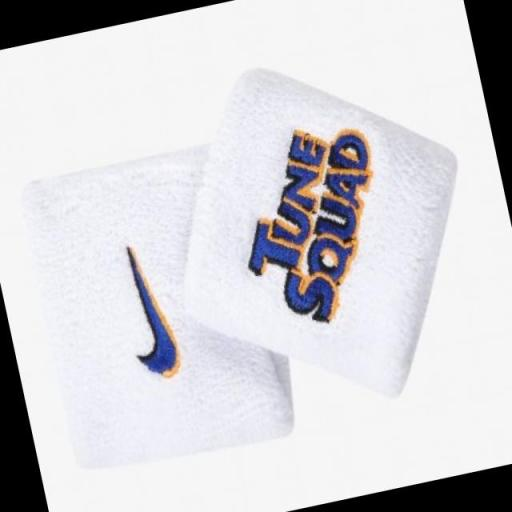Nike: (106, 231, 190, 390)
